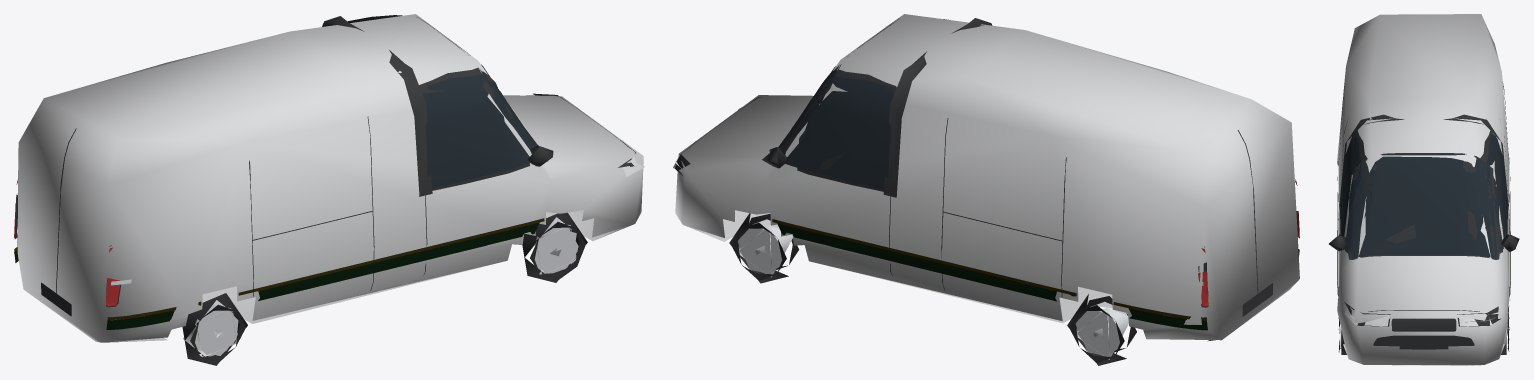
File: pro_loc_ufar.glb
3 views of the same model, side by side, from view 1: azimuth 30°, elevation 25°; view 2: azimuth 150°, elevation 25°; view 3: azimuth 270°, elevation 25° (orthographic). The views are drawn at different scales.
Parts seen in each view (by area): view 1: Body, Glass-1, ProStripe-1, WheelRR, WheelFR, Bpillar-1, ProAccent-1, WinFrame-1; view 2: Body, Glass1, ProStripe1, WheelRL, WheelFL, Bpillar1, ProAccent1, WinFrame1; view 3: Body, Windshield, Glass-1, WsFrame, Glass1, Intake, Grille, HeadReflector, HeadBezel, WinFrame-1, WinFrame1, Bpillar1 (+4 smaller).
Boxes of the visible parts, x1=… form: Body: x1=17, y1=14, x2=643, y2=342; Glass-1: x1=422, y1=74, x2=535, y2=188; ProStripe-1: x1=106, y1=222, x2=539, y2=329; WheelRR: x1=182, y1=293, x2=247, y2=365; WheelFR: x1=522, y1=212, x2=587, y2=282; Bpillar-1: x1=389, y1=50, x2=432, y2=196; ProAccent-1: x1=107, y1=218, x2=544, y2=320; WinFrame-1: x1=419, y1=67, x2=531, y2=190; Body: x1=675, y1=14, x2=1299, y2=340; Glass1: x1=783, y1=76, x2=894, y2=189; ProStripe1: x1=777, y1=223, x2=1207, y2=330; WheelRL: x1=1067, y1=294, x2=1136, y2=365; WheelFL: x1=729, y1=213, x2=799, y2=283; Bpillar1: x1=883, y1=51, x2=926, y2=197; ProAccent1: x1=772, y1=219, x2=1206, y2=320; WinFrame1: x1=782, y1=69, x2=896, y2=191; Body: x1=1337, y1=14, x2=1509, y2=365; Windshield: x1=1351, y1=153, x2=1496, y2=257; Glass-1: x1=1340, y1=135, x2=1372, y2=251; WsFrame: x1=1348, y1=153, x2=1499, y2=259; Glass1: x1=1475, y1=133, x2=1507, y2=251; Intake: x1=1373, y1=335, x2=1474, y2=346; Grille: x1=1391, y1=318, x2=1456, y2=331; HeadReflector: x1=1344, y1=305, x2=1500, y2=326; HeadBezel: x1=1344, y1=302, x2=1500, y2=326; WinFrame-1: x1=1340, y1=131, x2=1373, y2=253; WinFrame1: x1=1480, y1=131, x2=1507, y2=253; Bpillar1: x1=1443, y1=114, x2=1508, y2=209.
Bounding box in the file's own units: 5.62 × 2.31 × 2.14.
